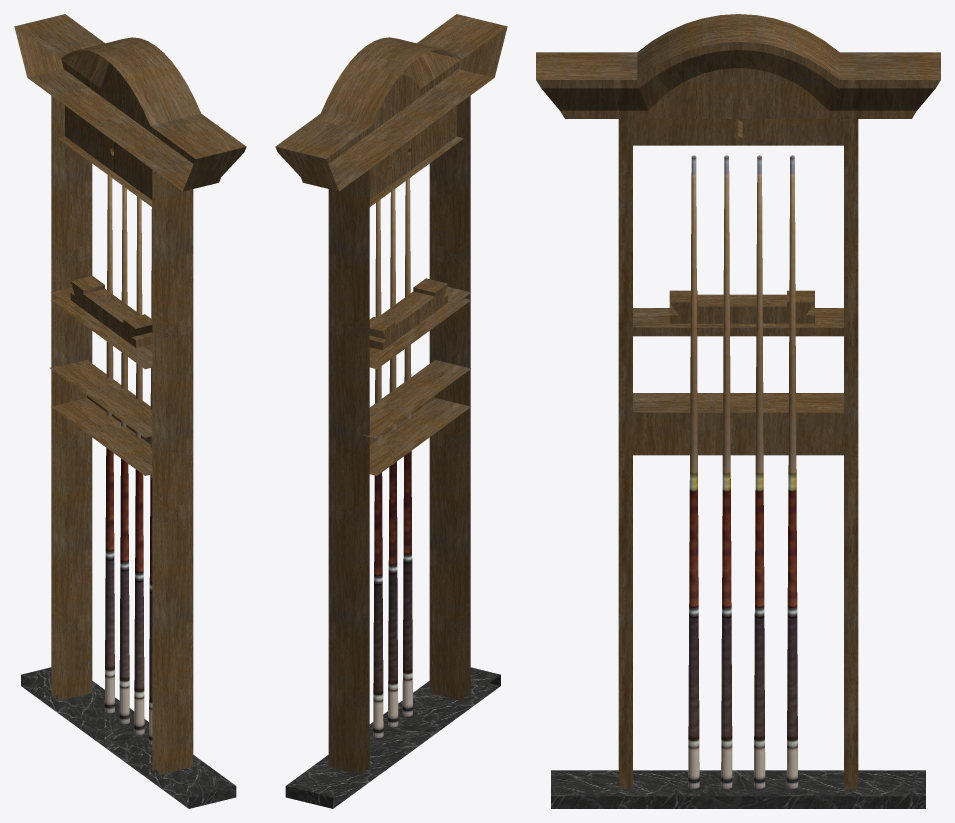
File: P_CueStand.fbx
3 renders of one model, left to right at view 1: azimuth 30°, elevation 25°; view 2: azimuth 150°, elevation 25°; view 3: azimuth 270°, elevation 25°, orthographic. The views are drawn at different scales.
Parts seen in each view (by area): view 1: Empty_Mesh; view 2: Empty_Mesh; view 3: Empty_Mesh.
Boxes of the visible parts, x1,y1,x2,y2 form: Empty_Mesh: [14, 14, 246, 808]; Empty_Mesh: [275, 14, 507, 808]; Empty_Mesh: [536, 14, 940, 808].
Size of the model in its own units: 0.16 by 1.81 by 0.8624.
